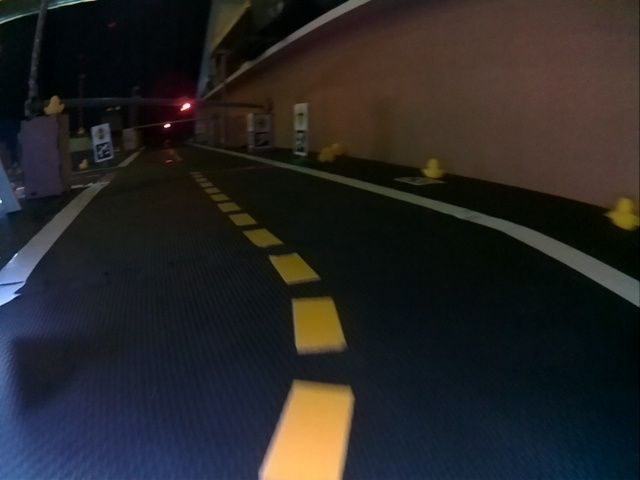Duckie: (606, 198, 635, 229), (423, 159, 444, 178), (44, 98, 63, 115), (331, 141, 343, 156), (319, 147, 331, 161), (80, 160, 87, 169)
Intersection sign: (295, 104, 306, 127)
QR code: (395, 177, 440, 186), (93, 143, 113, 159), (254, 132, 269, 147), (295, 133, 305, 154)
Traffic light: (181, 103, 190, 112), (164, 123, 173, 130)
